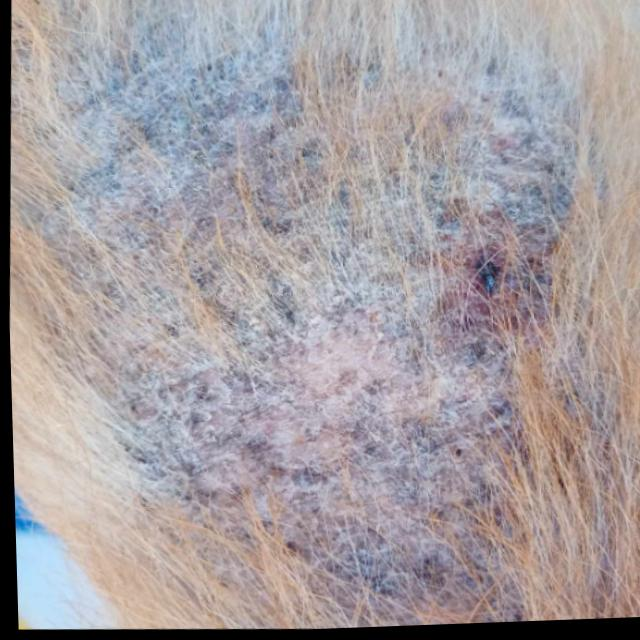demodicosis: (99, 0, 571, 626)
